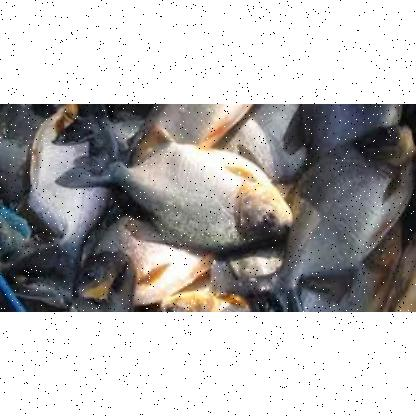ikan-pacu: (252, 124, 414, 310), (75, 146, 290, 250), (82, 213, 214, 305)
